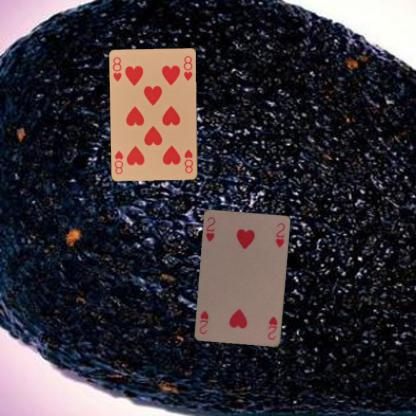2h: (203, 214, 217, 244), (265, 314, 279, 341)
8h: (110, 55, 123, 83), (182, 147, 195, 174)
